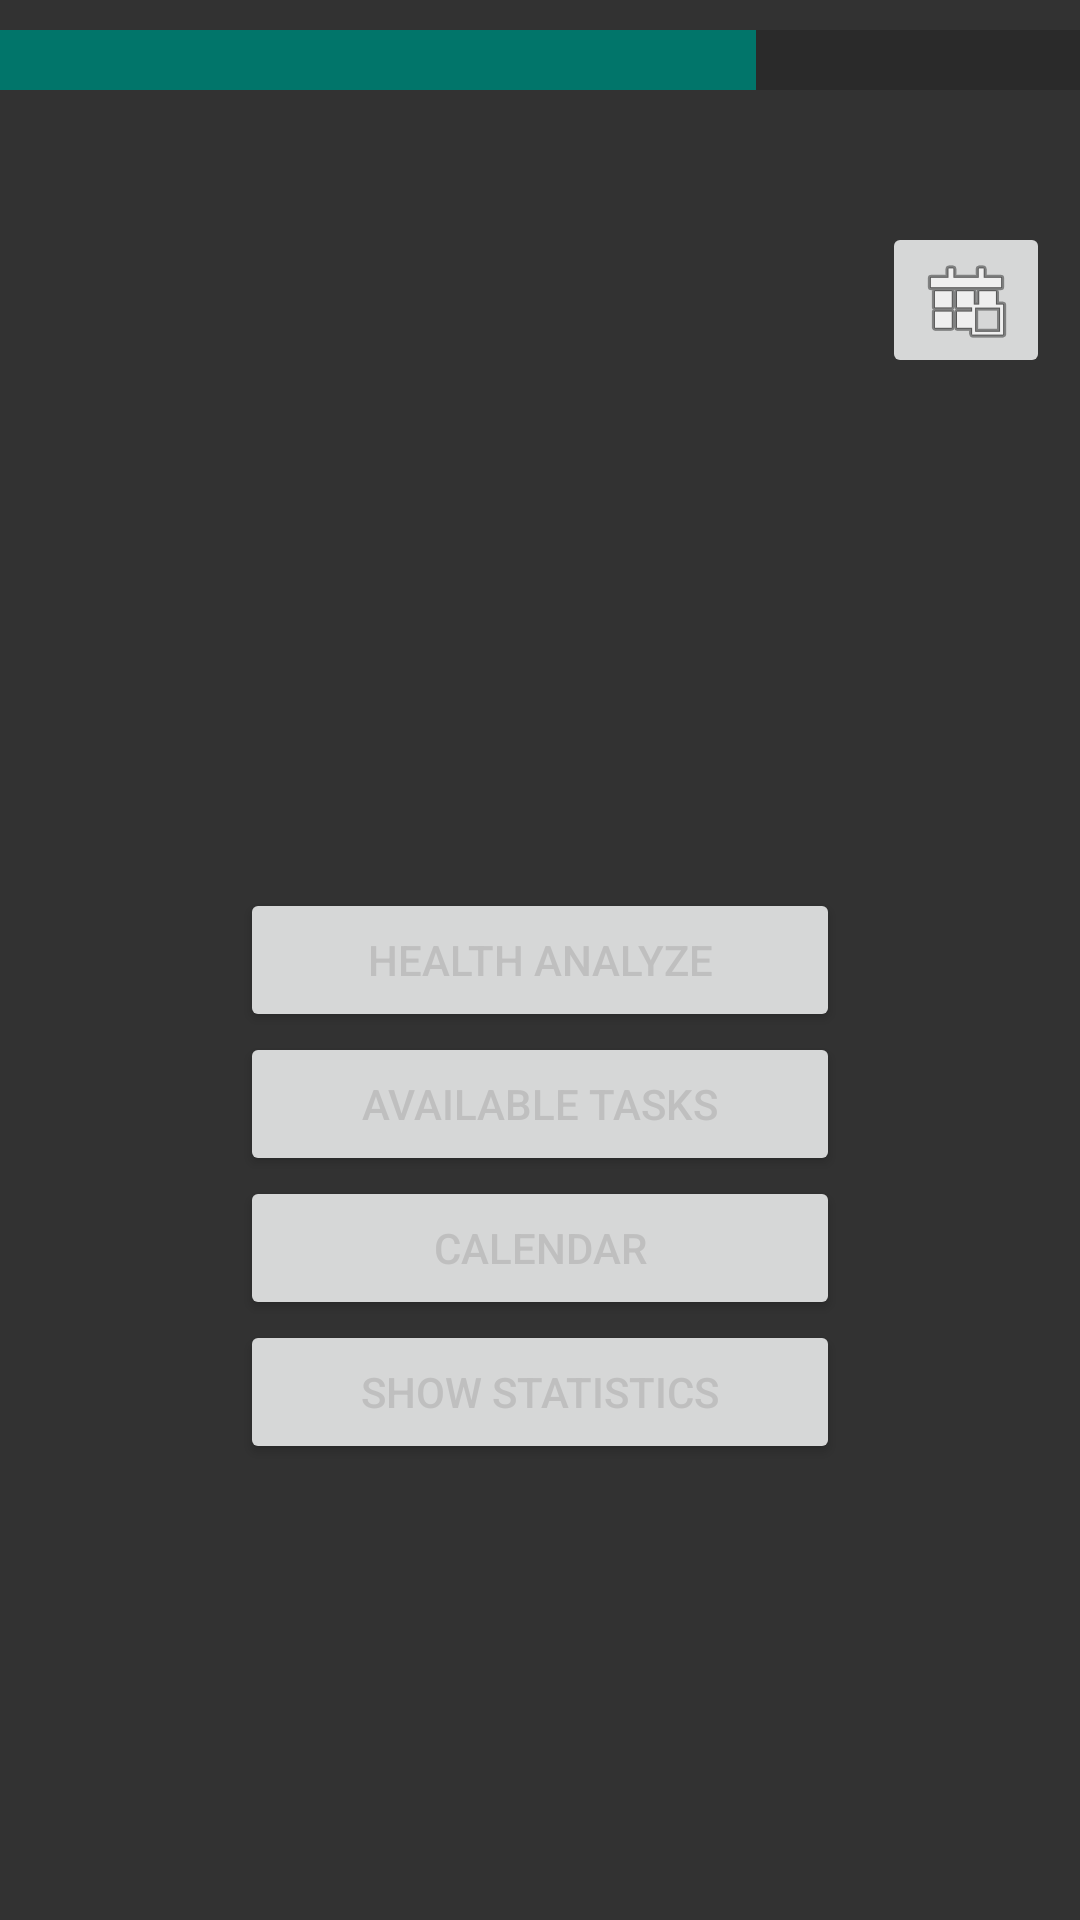

Locate icon controls on the screen. Image size 1080*1920, boxes as bbox=(x1, y1, x2, y2).
today: bbox=(894, 240, 1038, 360)
